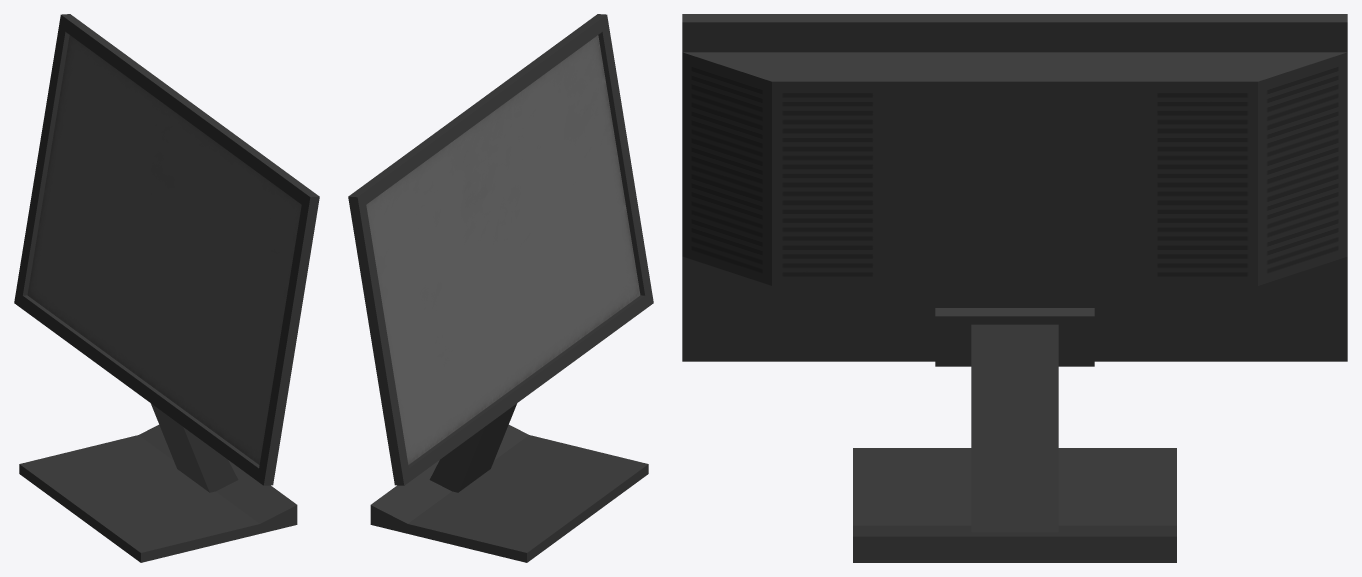
File: SM_Monitor_23.fbx
The picture shows the model from 3 angles, left to right: view 1: azimuth 30°, elevation 25°; view 2: azimuth 150°, elevation 25°; view 3: azimuth 270°, elevation 25°; orthographic projection. The views are drawn at different scales.
Parts seen in each view (by area): view 1: SM_Monitor_23_LOD0; view 2: SM_Monitor_23_LOD0; view 3: SM_Monitor_23_LOD0.
Boxes of the visible parts, left/top/right/bottom form: SM_Monitor_23_LOD0: left=14, top=14, right=319, bottom=562; SM_Monitor_23_LOD0: left=348, top=14, right=653, bottom=562; SM_Monitor_23_LOD0: left=682, top=14, right=1347, bottom=562.
Size of the model in its own units: 16.29 by 45 by 38.48.
